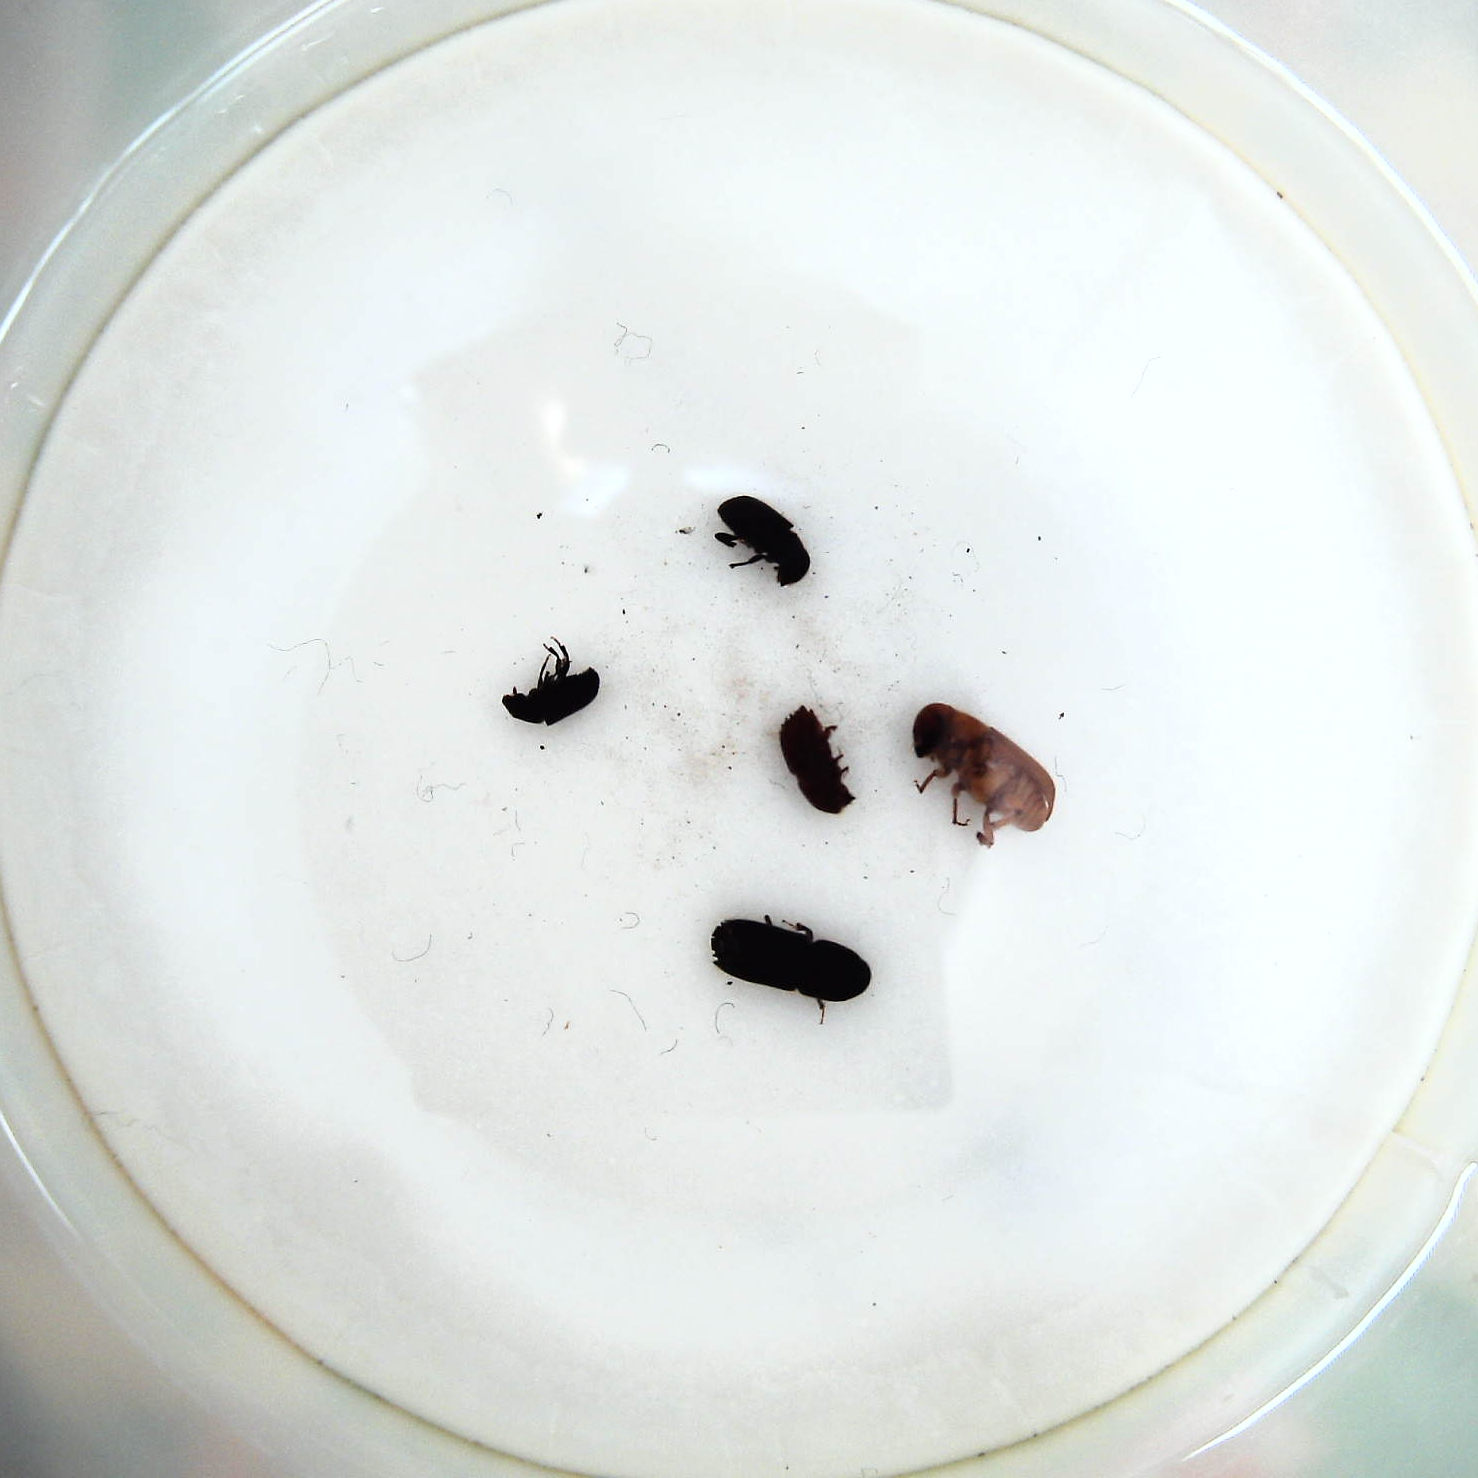Boerner: (707, 912, 876, 1016)
Leconte: (907, 700, 1061, 854)
armandi: (711, 495, 812, 590)
coleoptera: (495, 632, 605, 725)
linnaeus: (776, 698, 859, 818)
